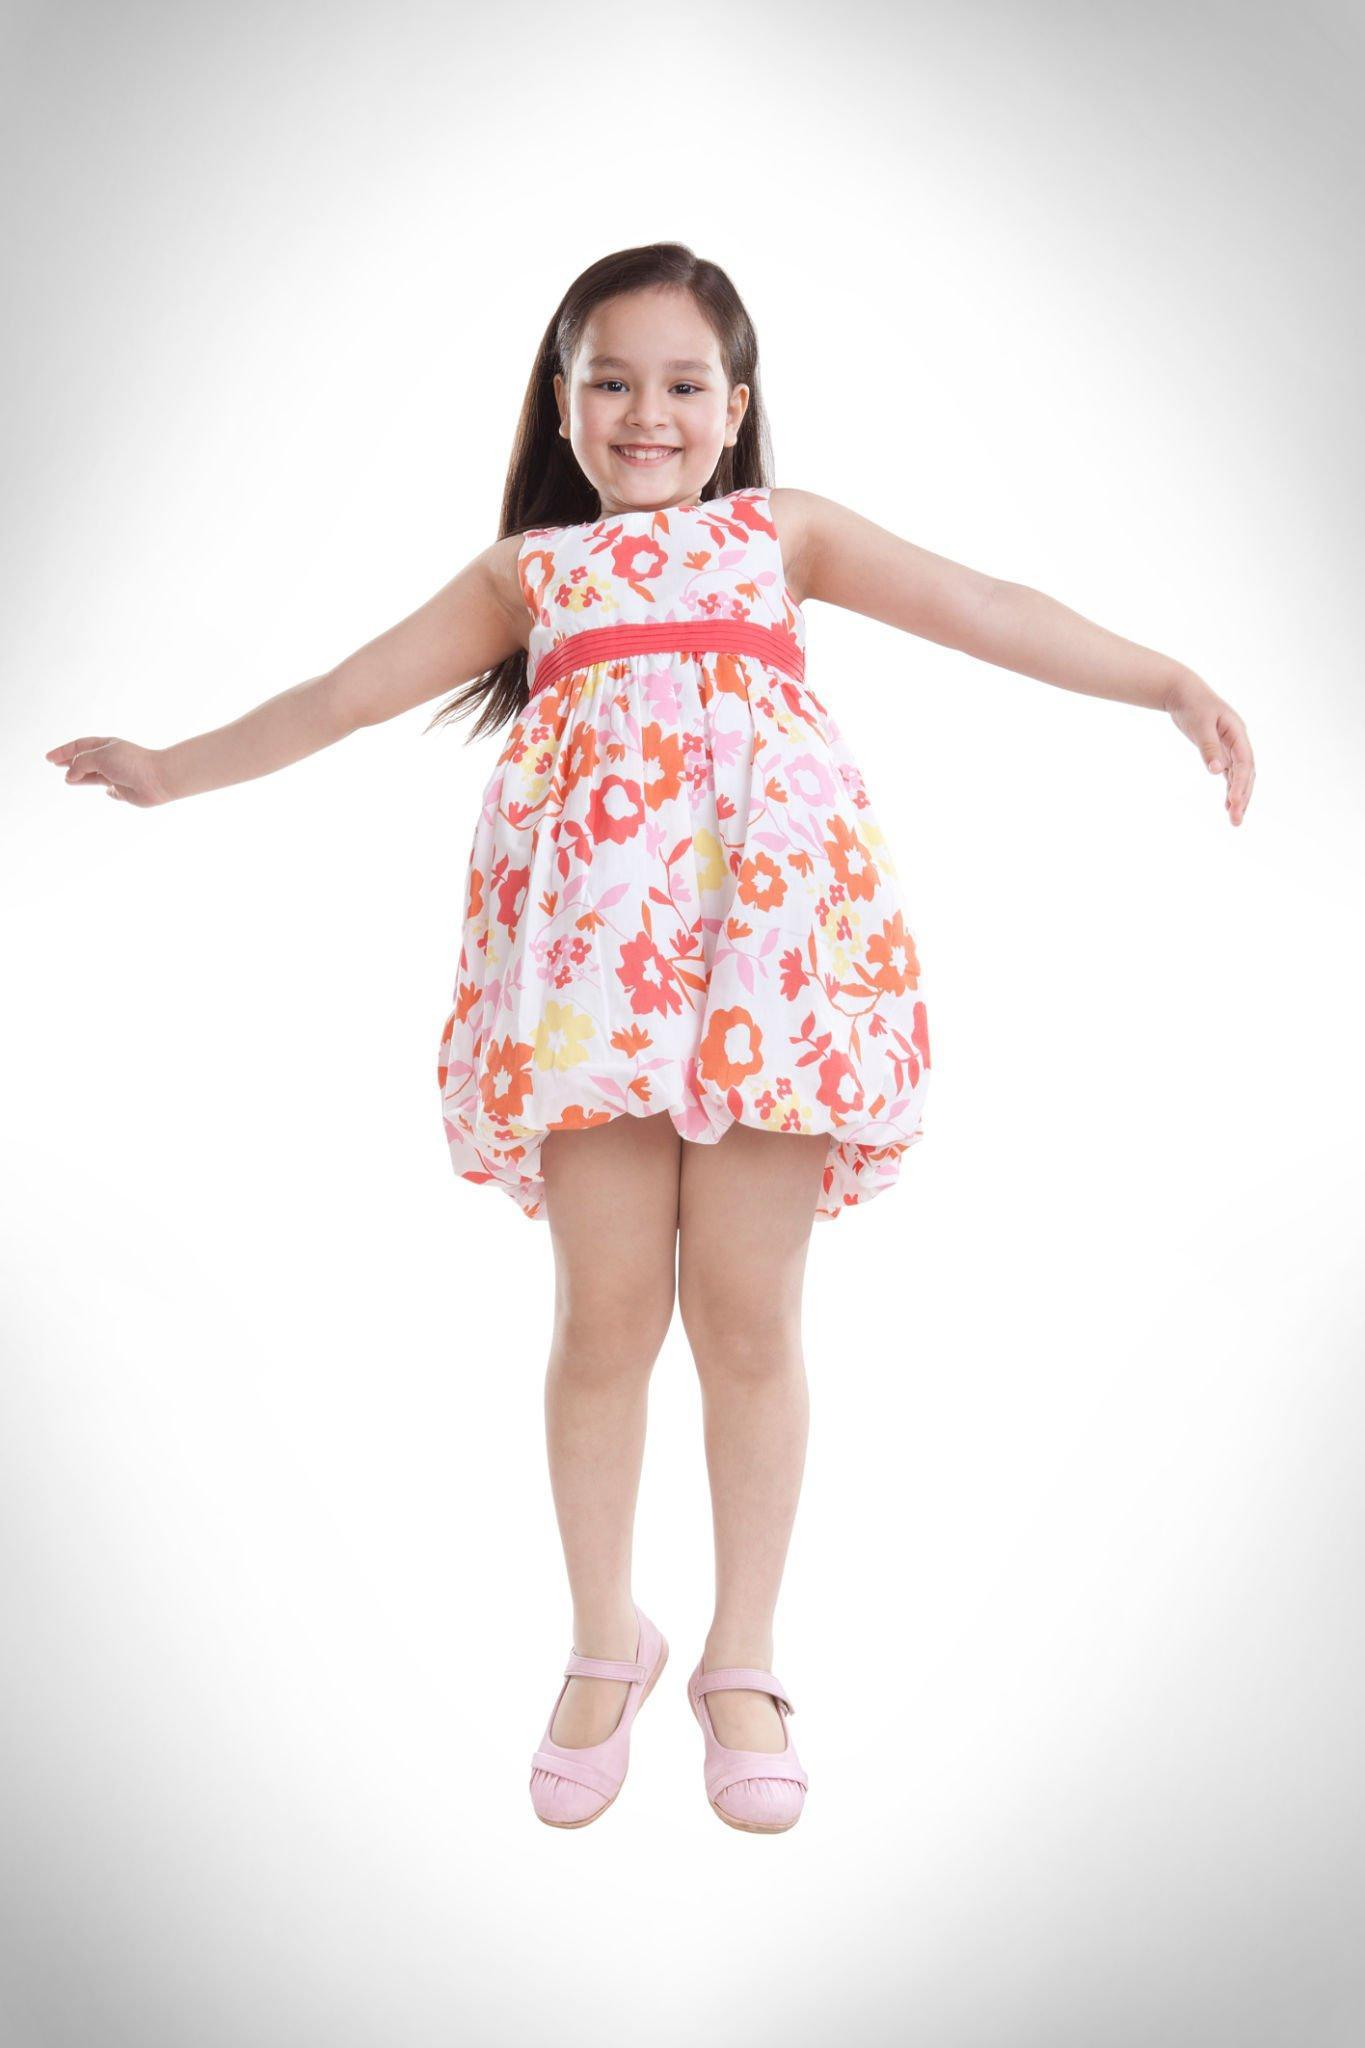Healthy: (486, 201, 789, 553)
